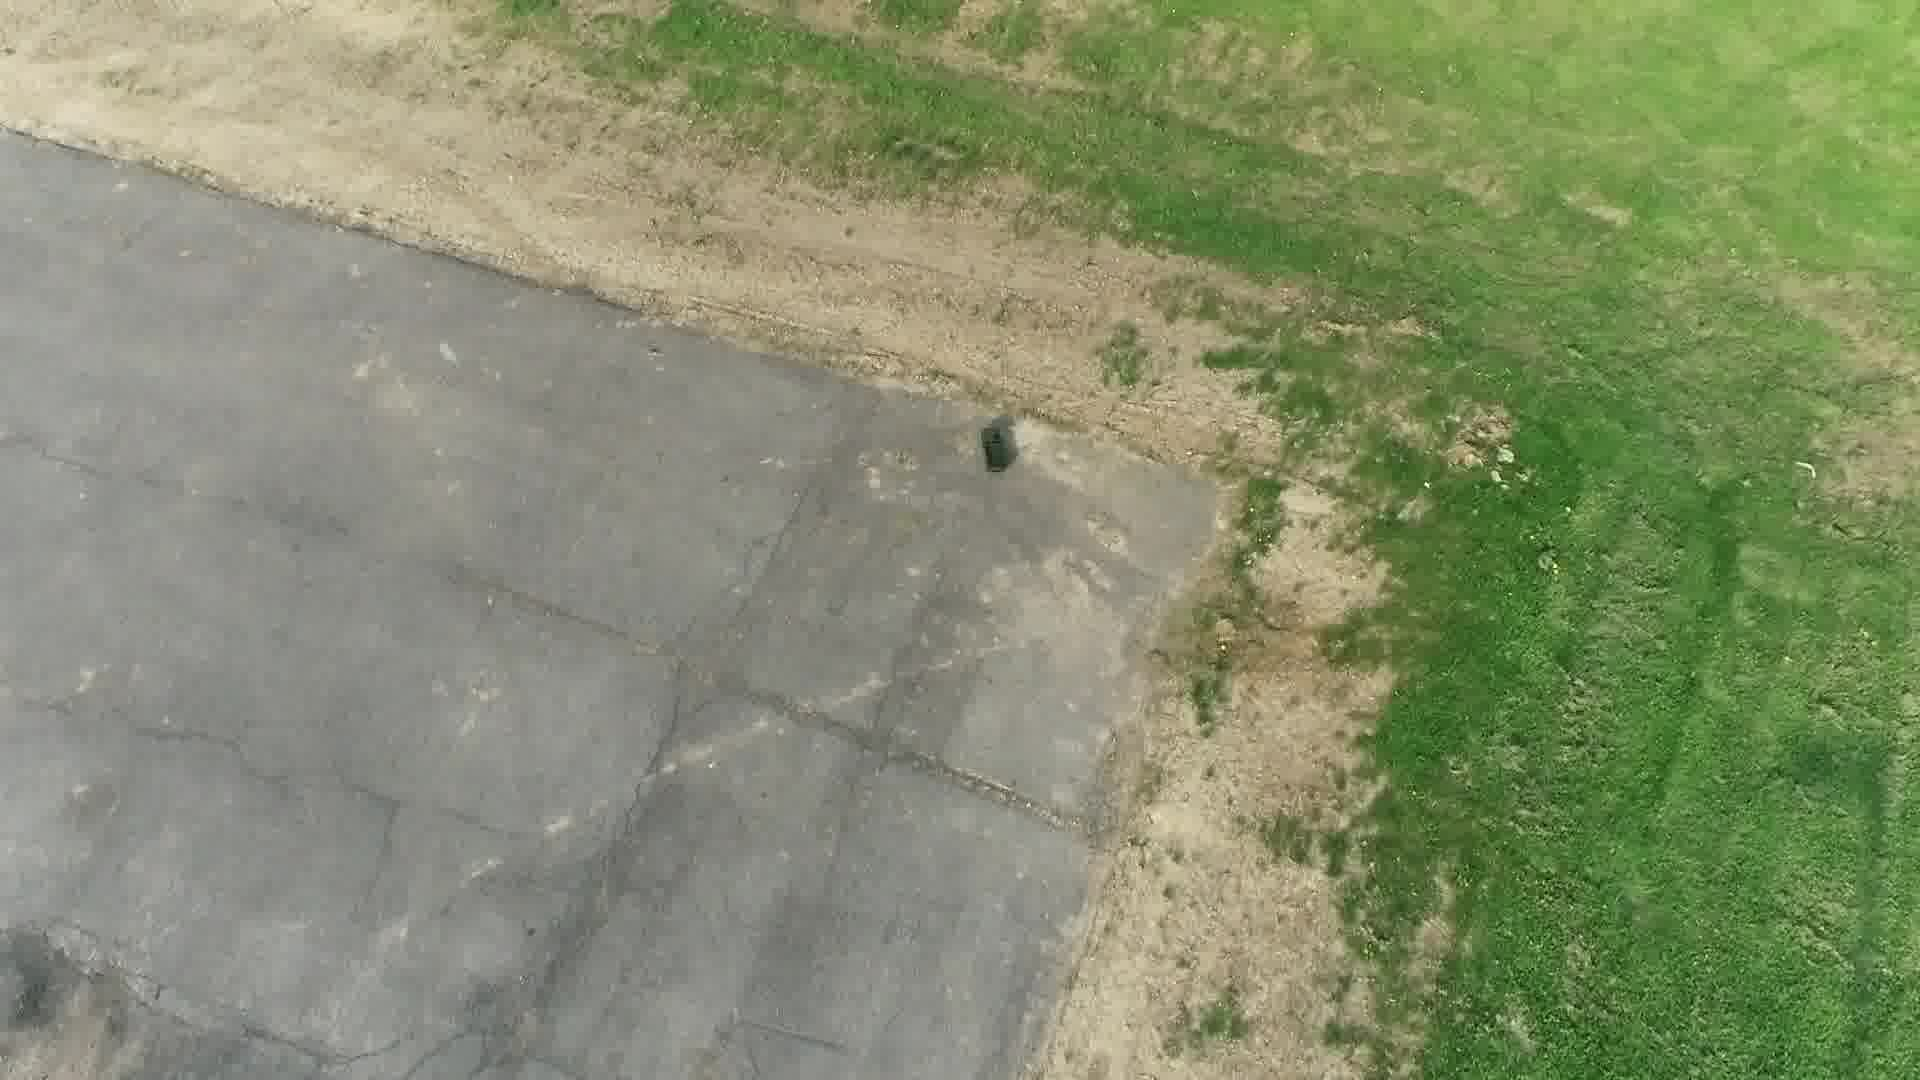transporter9: (977, 425, 1010, 475)
